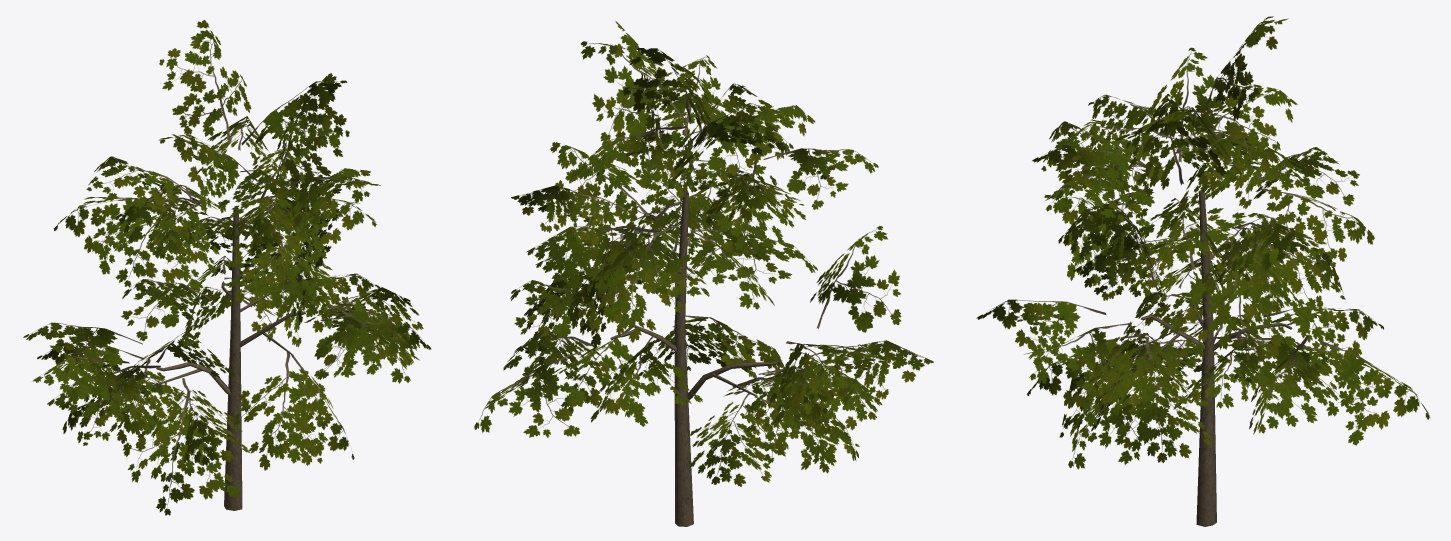
The model's file is maple_acer_small_2_lod2.gltf.
3 views of the same model, side by side, from view 1: azimuth 30°, elevation 25°; view 2: azimuth 150°, elevation 25°; view 3: azimuth 270°, elevation 25° (orthographic). The views are drawn at different scales.
Visible parts, largest first — view 1: Acer_small_2_LOD2_Cluster_Mat_0, Acer_small_2_LOD2_Bark_Mat_0; view 2: Acer_small_2_LOD2_Cluster_Mat_0, Acer_small_2_LOD2_Bark_Mat_0; view 3: Acer_small_2_LOD2_Cluster_Mat_0, Acer_small_2_LOD2_Bark_Mat_0.
Part boxes in pixels (x1,y1,x2,y2): Acer_small_2_LOD2_Cluster_Mat_0: (23, 20, 431, 515); Acer_small_2_LOD2_Bark_Mat_0: (156, 208, 305, 510); Acer_small_2_LOD2_Cluster_Mat_0: (474, 21, 933, 486); Acer_small_2_LOD2_Bark_Mat_0: (610, 192, 781, 526); Acer_small_2_LOD2_Cluster_Mat_0: (976, 16, 1430, 469); Acer_small_2_LOD2_Bark_Mat_0: (1140, 190, 1292, 526).
Bounding box in the file's own units: 5.59 × 6.39 × 5.35.
2 materials, 2 textured.
